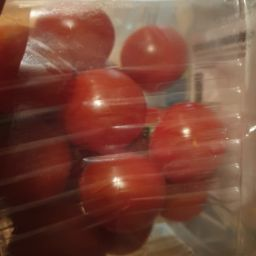Pea tomatoes: (36, 10, 235, 256), (62, 139, 171, 238), (59, 75, 152, 153), (147, 102, 231, 188), (77, 151, 169, 224), (12, 119, 78, 214), (45, 12, 125, 76), (124, 24, 199, 92)
